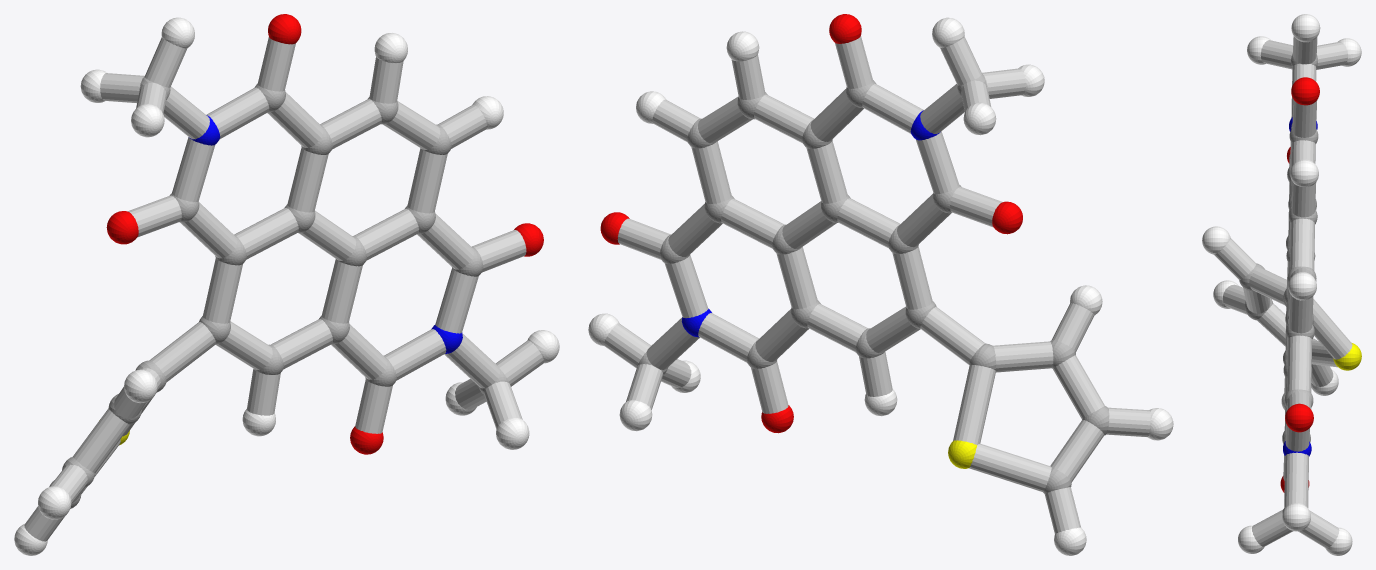
File: Dimethyl_Naphthalene_Dicarboximide_Phi_15_Theta_310_Thiophene.glb
3 renders of one model, left to right at view 1: azimuth 30°, elevation 25°; view 2: azimuth 150°, elevation 25°; view 3: azimuth 270°, elevation 25°, orthographic. The views are drawn at different scales.
Visible parts, largest first — view 1: grp14119, grp7241, grp1, grp12309, grp11585; view 2: grp14119, grp7241, grp1, grp12309, grp11585; view 3: grp14119, grp7241, grp1, grp12309, grp13757, grp11585.
Part boxes in pixels (x1=…): grp14119: x1=24, y1=37, x2=544, y2=541; grp7241: x1=14, y1=17, x2=559, y2=555; grp1: x1=49, y1=77, x2=509, y2=508; grp12309: x1=106, y1=14, x2=543, y2=454; grp11585: x1=189, y1=115, x2=462, y2=353; grp14119: x1=603, y1=36, x2=1150, y2=533; grp7241: x1=588, y1=17, x2=1173, y2=555; grp1: x1=638, y1=74, x2=1109, y2=493; grp12309: x1=600, y1=14, x2=1022, y2=433; grp11585: x1=681, y1=110, x2=940, y2=337; grp14119: x1=1214, y1=36, x2=1352, y2=548; grp7241: x1=1202, y1=14, x2=1361, y2=555; grp1: x1=1239, y1=53, x2=1318, y2=513; grp12309: x1=1280, y1=77, x2=1319, y2=492; grp13757: x1=1333, y1=343, x2=1361, y2=370; grp11585: x1=1283, y1=117, x2=1317, y2=456.
Bounding box in the file's own units: 11.47 × 10.03 × 3.33.
